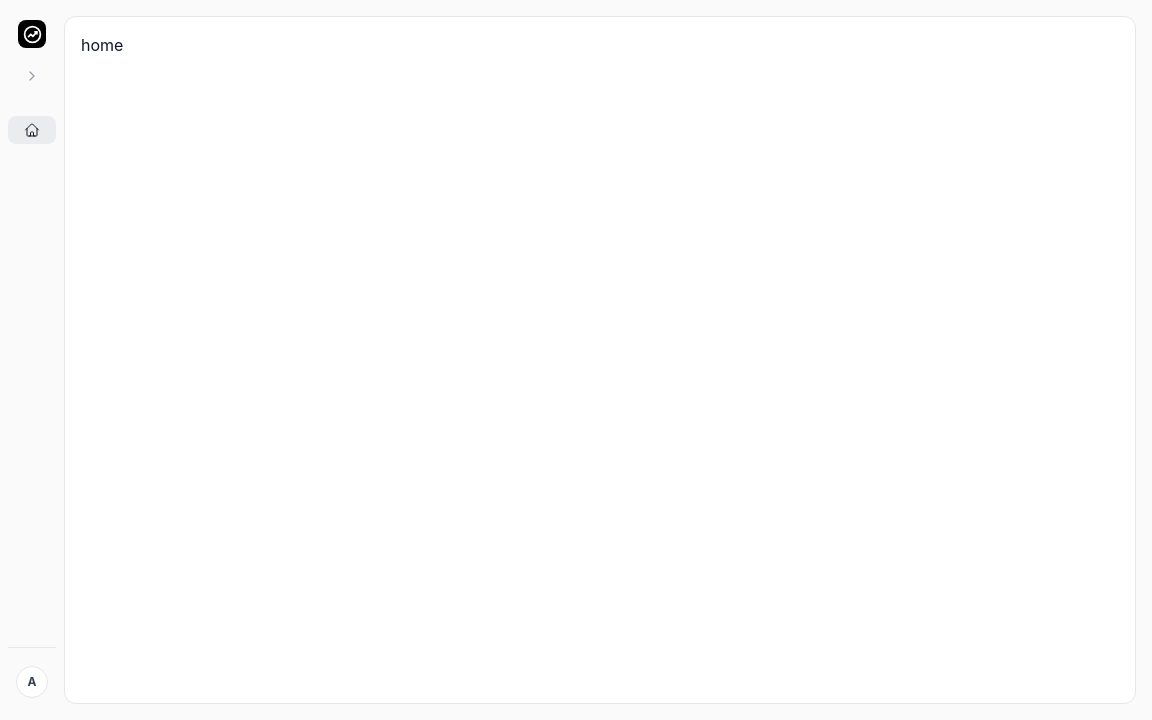
Test: App › renders the shell with the user once
Expected: the text "home" is shown, [81,35,123,55]
Step 1. Click the button with test id "sidebar-toggle" → x=32, y=76, box [16,60,48,92]
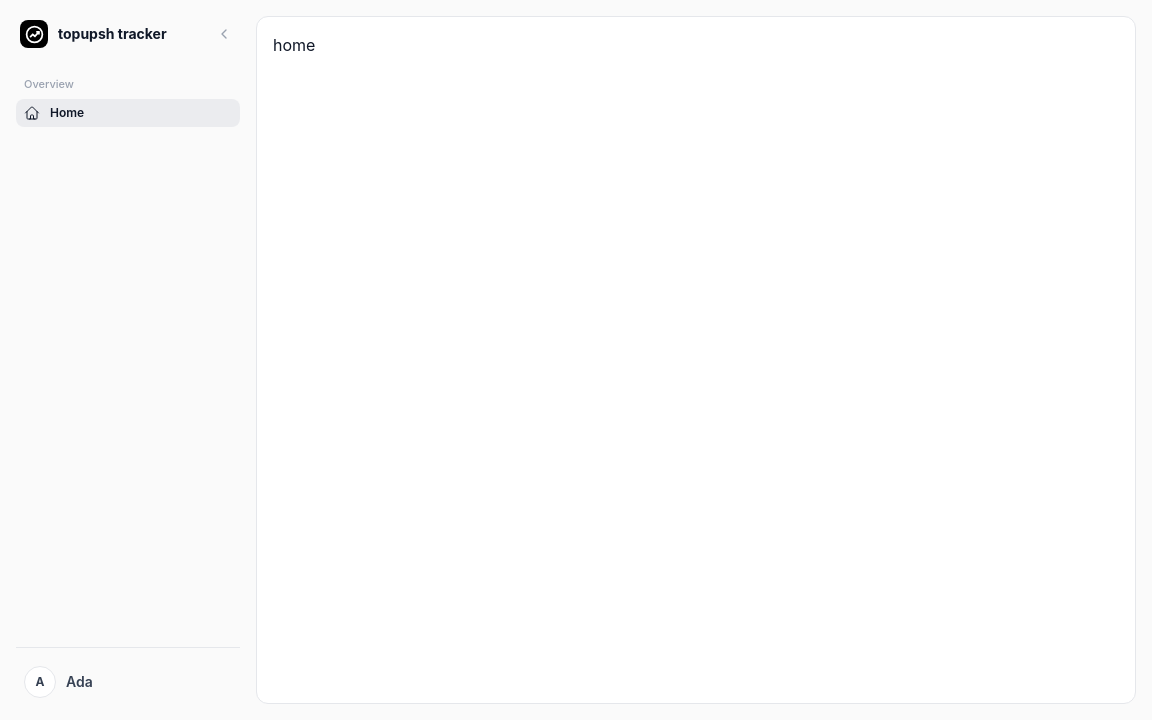
Expected: the navigation bar with test id "sidebar" shows "Ada", [16,660,240,704]
